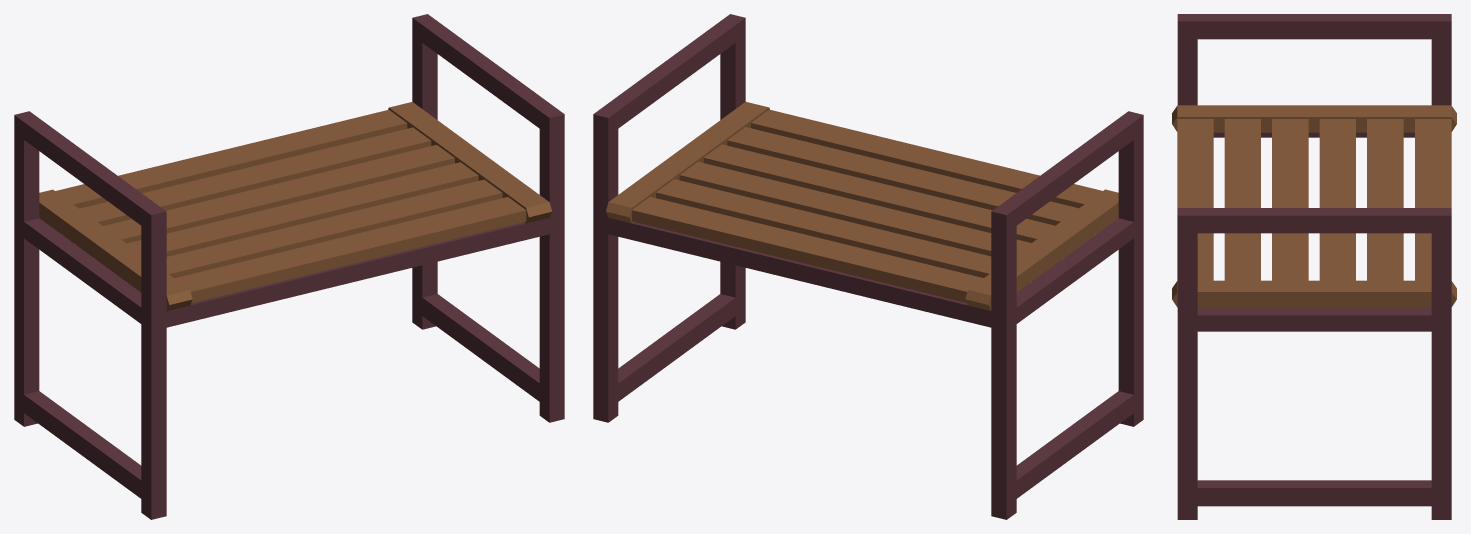
The model's file is furniture-bench-outside-modern.glb.
The picture shows the model from 3 angles, left to right: view 1: azimuth 30°, elevation 25°; view 2: azimuth 150°, elevation 25°; view 3: azimuth 270°, elevation 25°; orthographic projection.
Visible parts, largest first — view 1: bench-outside-modern; view 2: bench-outside-modern; view 3: bench-outside-modern.
Boxes of the visible parts, x1=… form: bench-outside-modern: x1=14, y1=14, x2=564, y2=519; bench-outside-modern: x1=593, y1=14, x2=1143, y2=519; bench-outside-modern: x1=1172, y1=14, x2=1456, y2=519.
Size of the model in its own units: 1.08 by 0.7604 by 0.6445.
